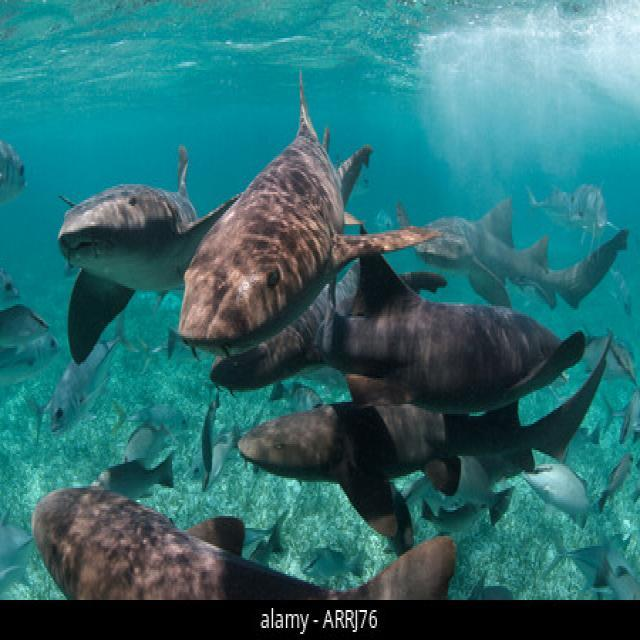Shark: (0, 56, 639, 602)
